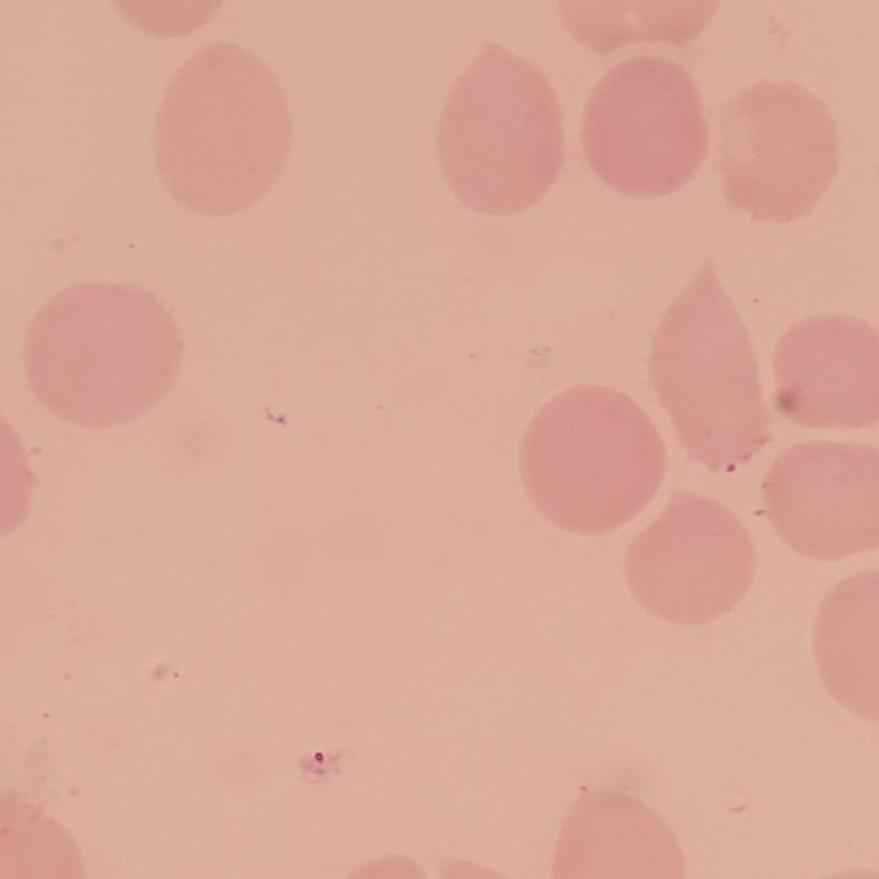Uninfected: (152, 41, 295, 216), (648, 261, 763, 468), (26, 281, 183, 425), (440, 41, 567, 217), (520, 385, 667, 534), (584, 53, 707, 197), (718, 81, 837, 218), (630, 493, 753, 618), (764, 443, 879, 558), (772, 313, 879, 430)
